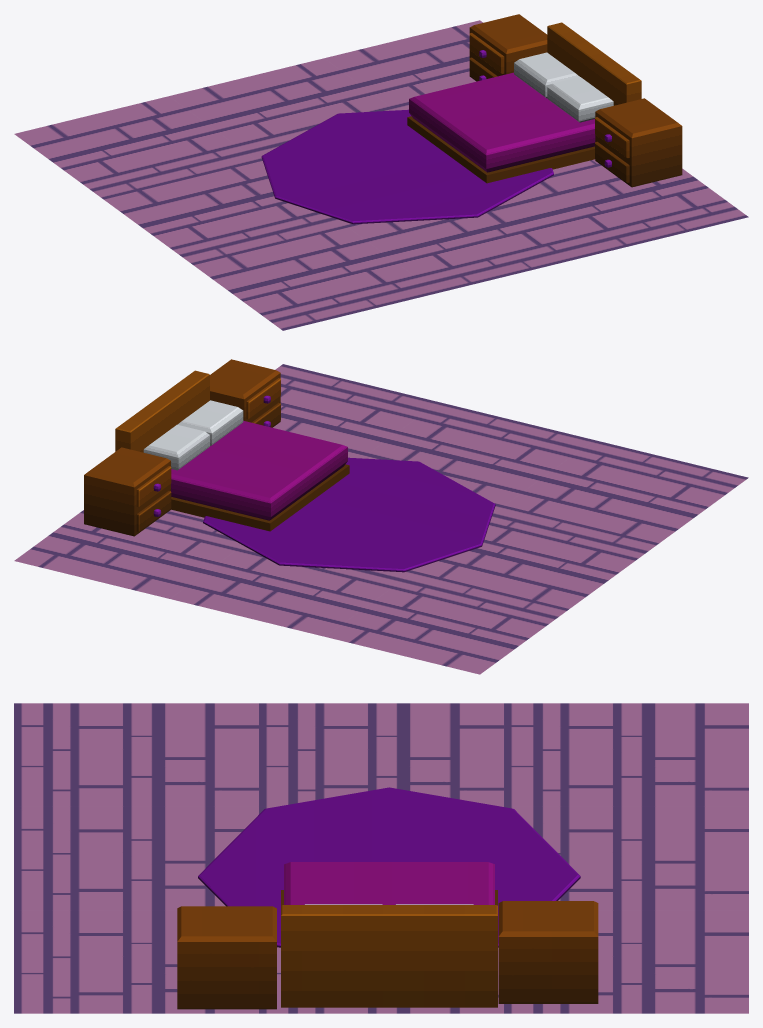
File: s1_Bedroom2_v1.fbx
The picture shows the model from 3 angles, top to bottom: view 1: azimuth 30°, elevation 25°; view 2: azimuth 150°, elevation 25°; view 3: azimuth 270°, elevation 25°; orthographic projection. The views are drawn at different scales.
Parts seen in each view (by area): view 1: s1_Bedroom2_v1; view 2: s1_Bedroom2_v1; view 3: s1_Bedroom2_v1.
Boxes of the visible parts, box(x1,y1,x2,y2) form: s1_Bedroom2_v1: box(14, 14, 748, 330); s1_Bedroom2_v1: box(14, 359, 748, 674); s1_Bedroom2_v1: box(14, 703, 748, 1013).
Size of the model in its own units: 900 by 126 by 900.
